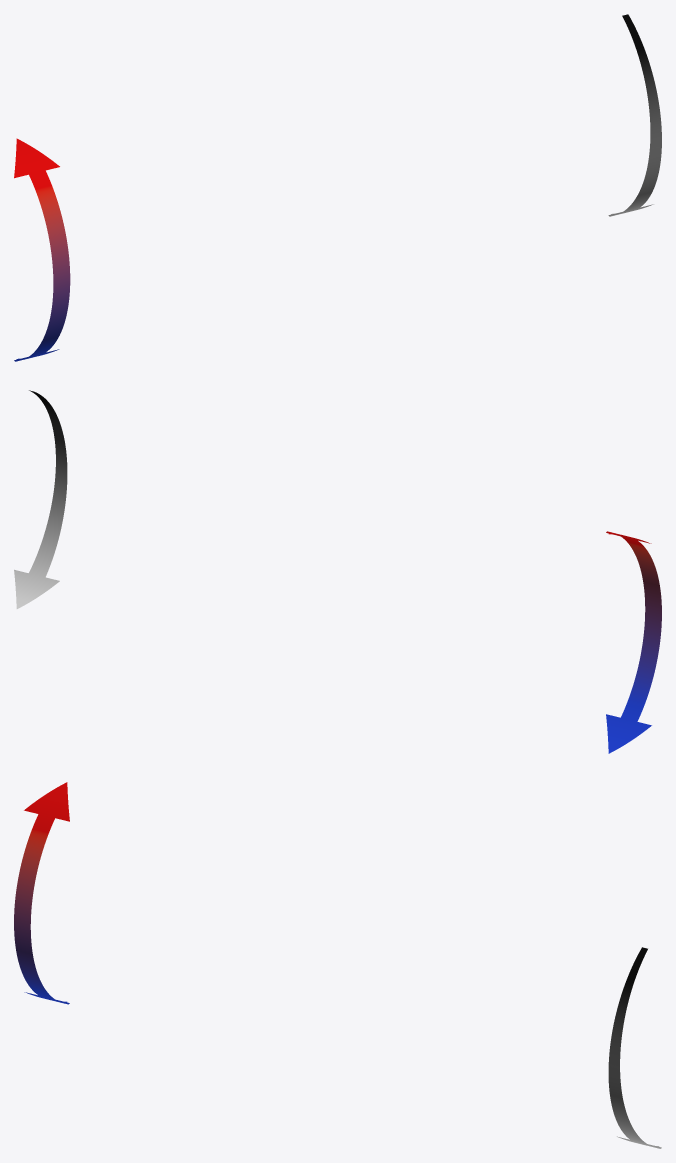
File: faucet2_arrow.fbx
The picture shows the model from 3 angles, top to bottom: view 1: azimuth 30°, elevation 25°; view 2: azimuth 150°, elevation 25°; view 3: azimuth 330°, elevation 25°; orthographic projection.
Parts seen in each view (by area): view 1: merge3; view 2: merge3; view 3: merge3.
Boxes of the visible parts, x1=… form: merge3: x1=14, y1=14, x2=661, y2=361; merge3: x1=14, y1=390, x2=661, y2=753; merge3: x1=14, y1=782, x2=661, y2=1148.
Bounding box in the file's own units: 1.67 × 0.5496 × 0.2038.
